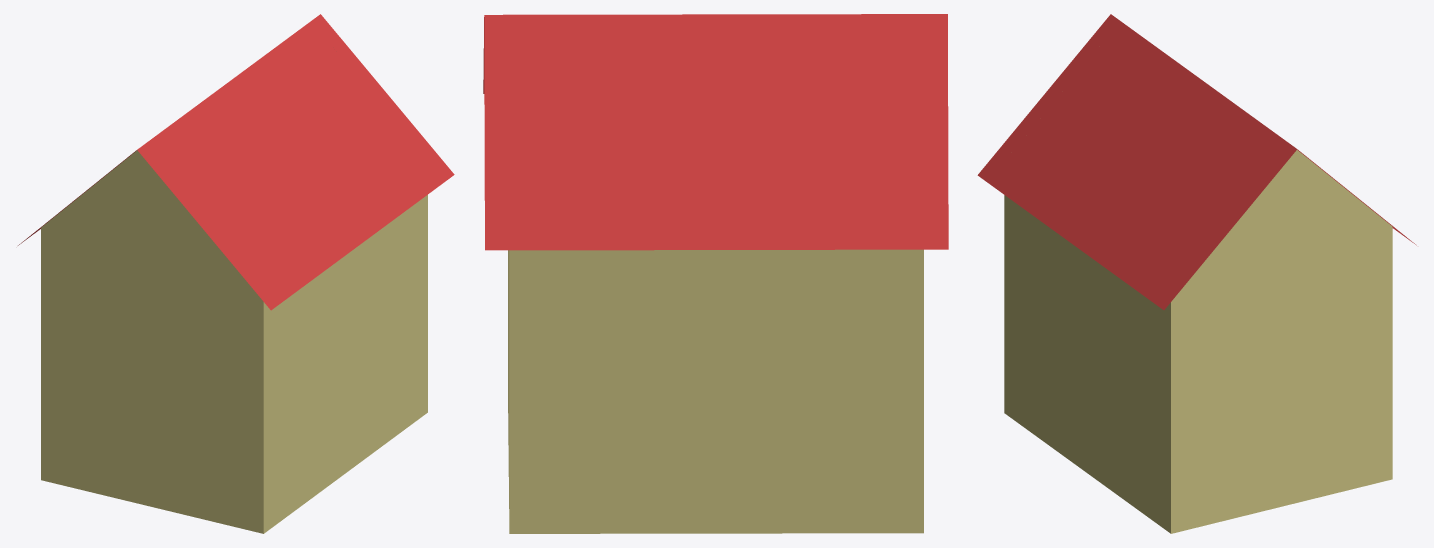
3 renders of one model, left to right at view 1: azimuth 30°, elevation 25°; view 2: azimuth 150°, elevation 25°; view 3: azimuth 270°, elevation 25°, orthographic. The views are drawn at different scales.
Bounding box in the file's own units: 17.93 × 16.91 × 15.33.
